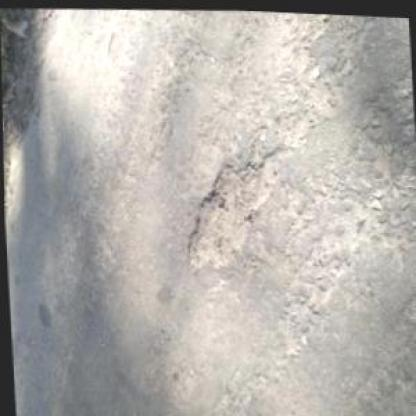pothole: (176, 138, 286, 274)
